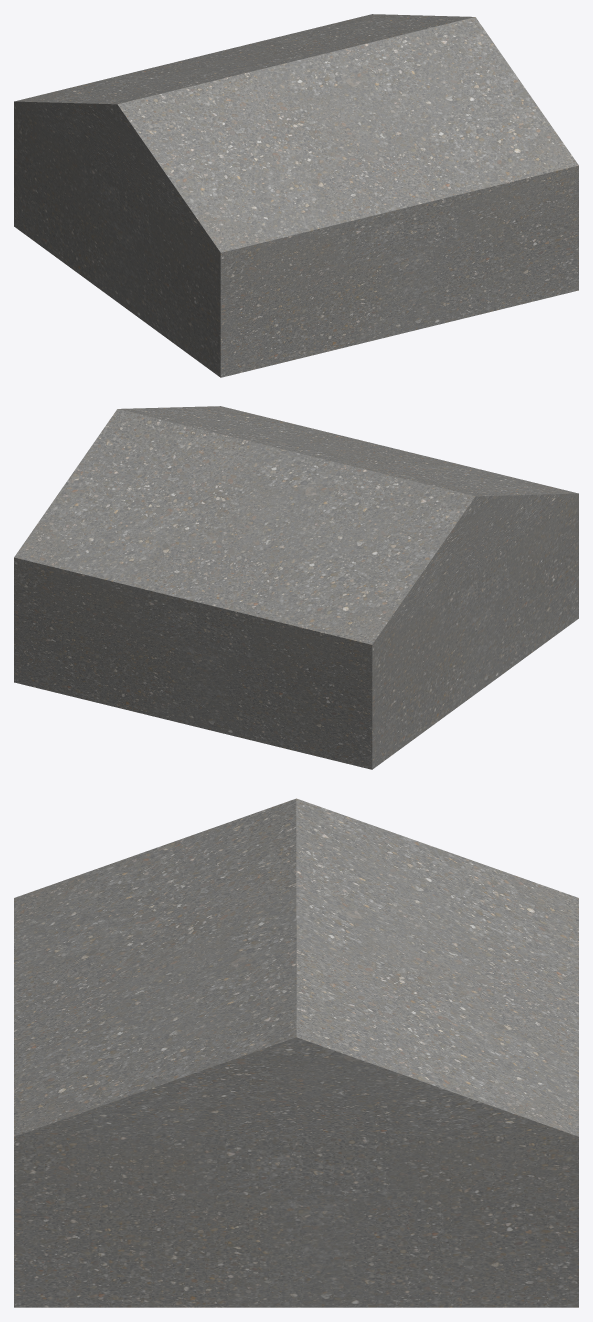
File: roof_slope_center.fbx
3 renders of one model, top to bottom at view 1: azimuth 30°, elevation 25°; view 2: azimuth 150°, elevation 25°; view 3: azimuth 270°, elevation 25°, orthographic. The views are drawn at different scales.
Visible parts, largest first — view 1: Cube; view 2: Cube; view 3: Cube.
Part boxes in pixels (bbox=[...]): Cube: bbox=[14, 14, 578, 377]; Cube: bbox=[14, 406, 578, 769]; Cube: bbox=[14, 798, 578, 1307].
Size of the model in its own units: 3 by 3 by 1.58.
